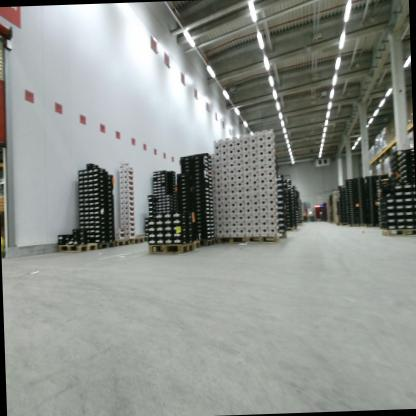pallet: (149, 238, 194, 255), (56, 240, 98, 254), (381, 225, 416, 239), (246, 232, 279, 244), (214, 236, 246, 246), (199, 237, 217, 247), (97, 241, 117, 249), (130, 234, 144, 245), (115, 238, 132, 246), (278, 229, 289, 240), (337, 221, 352, 228), (195, 238, 203, 249), (286, 225, 298, 231), (143, 234, 150, 243)
